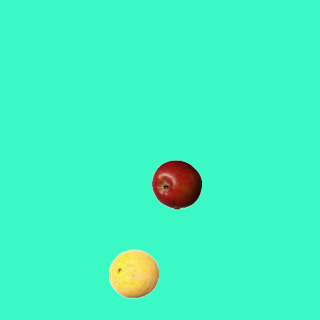Apple Braeburn: (151, 159, 201, 209)
Cantaloupe 1: (108, 248, 158, 298)
